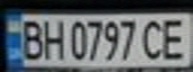0: (66, 17, 87, 61)
7: (118, 16, 142, 61), (84, 17, 103, 61)
9: (103, 17, 121, 61)
B: (15, 16, 45, 61)
C: (139, 16, 169, 61)
E: (157, 15, 193, 62)
H: (39, 16, 66, 61)
